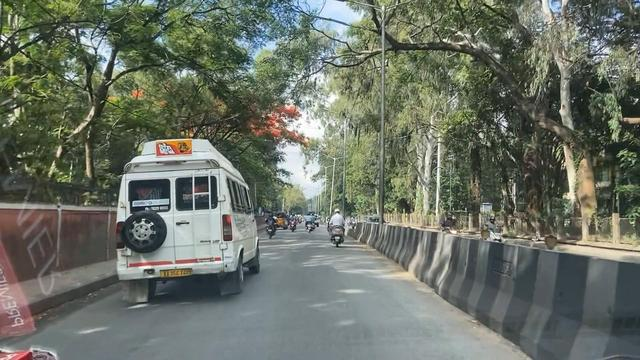HMV: (121, 153, 240, 300)
LMV: (331, 209, 343, 247), (303, 208, 316, 233), (265, 213, 275, 238)
